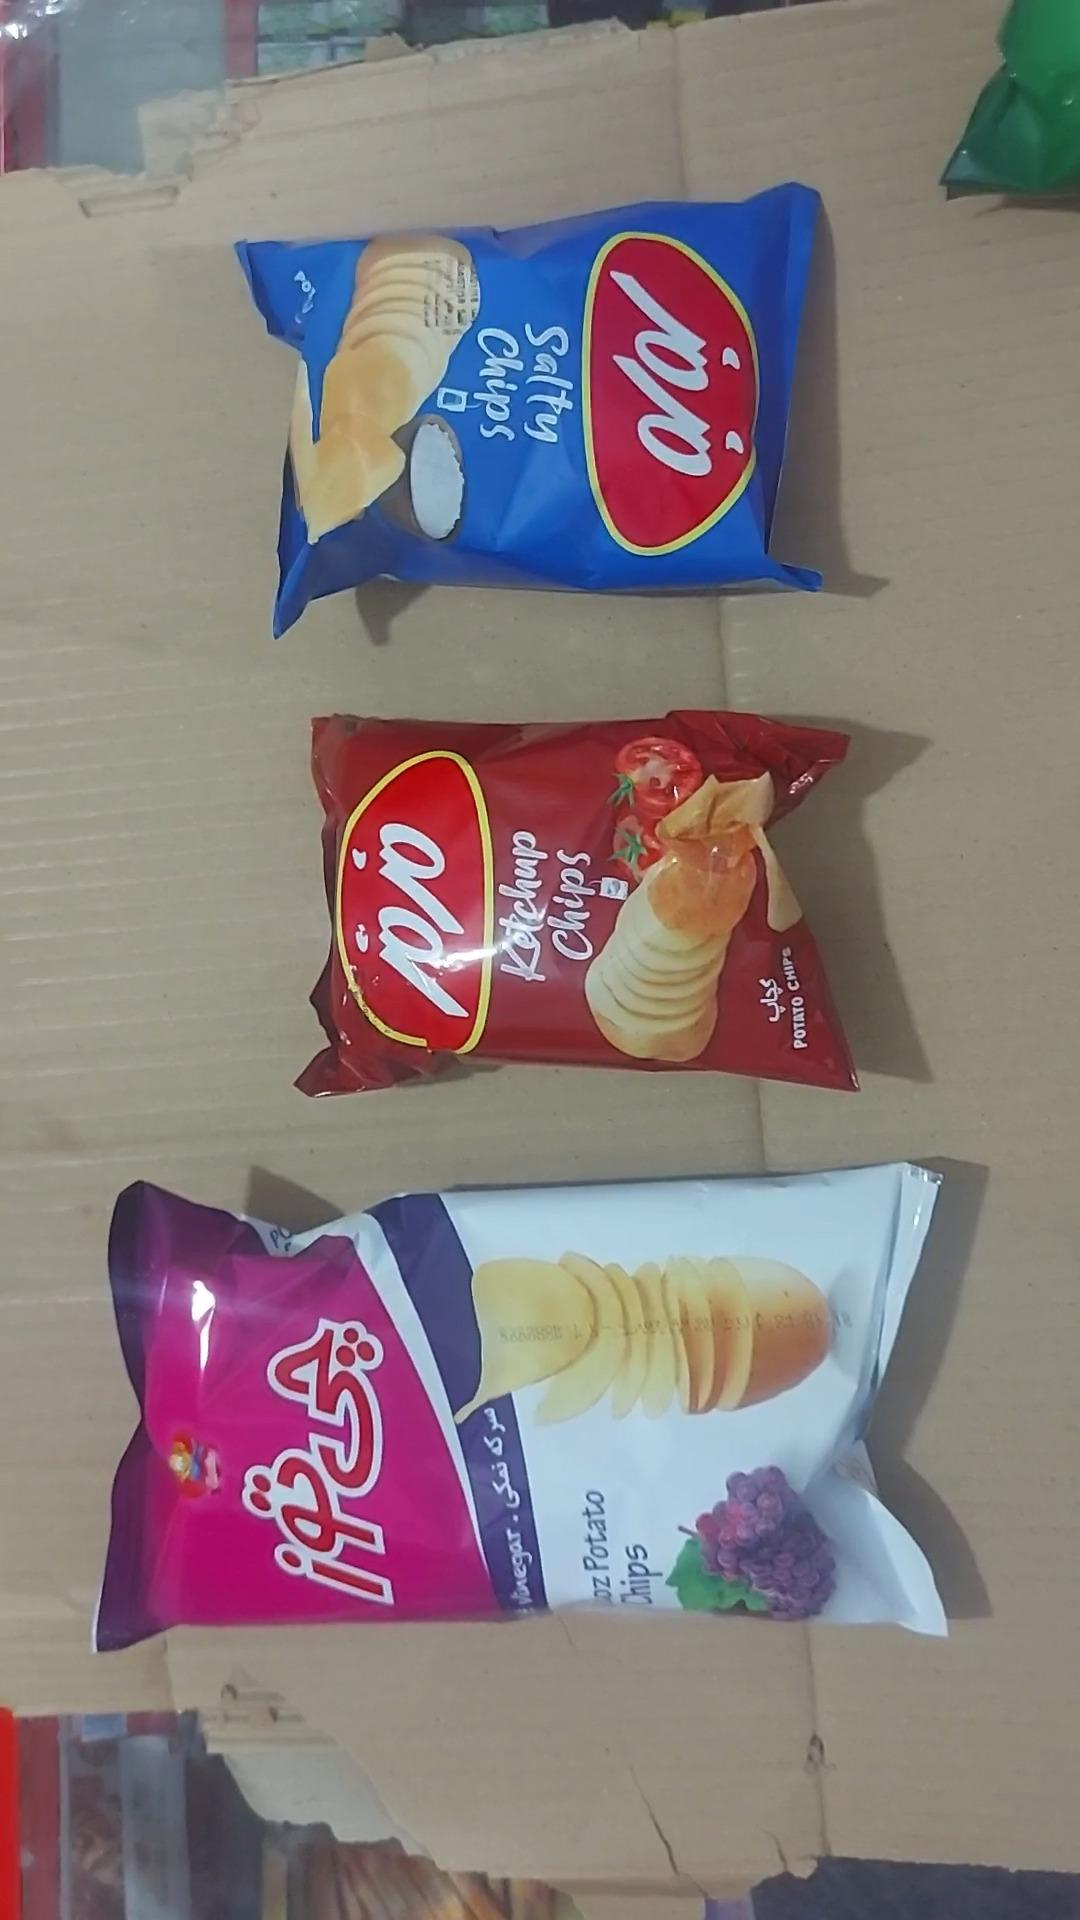Cheetoz vinegar chips: (94, 1164, 949, 1654)
Maz Maz ketchup chips: (293, 709, 860, 1100)
Maz Maz salty chips: (235, 183, 825, 641)
